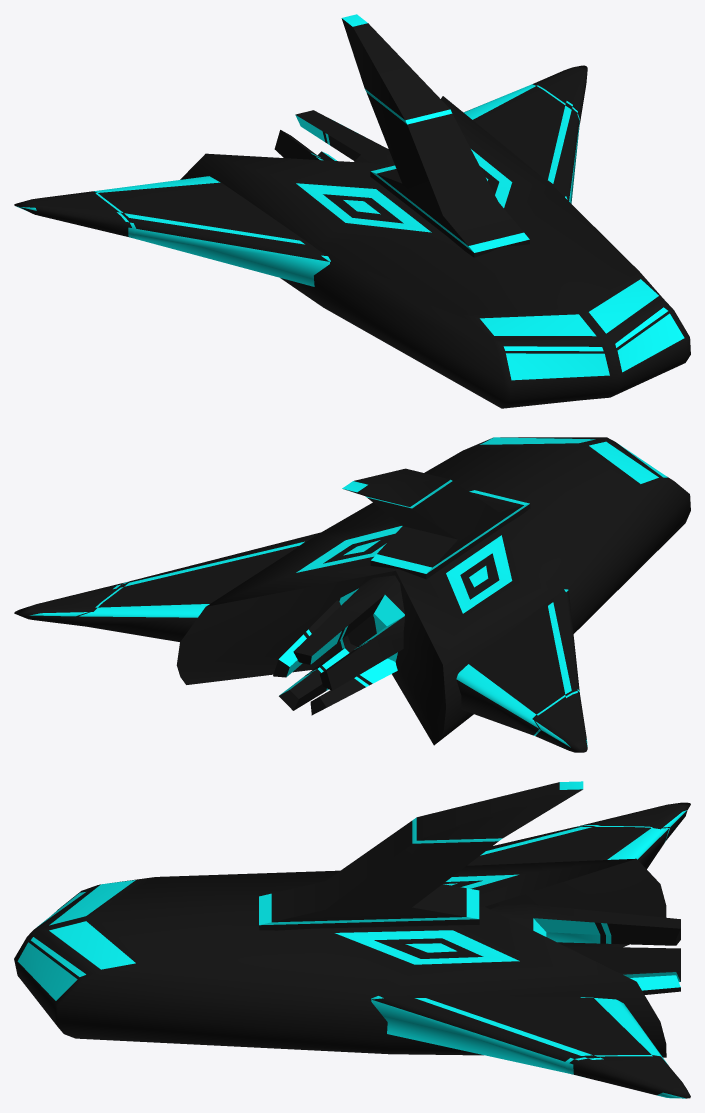
Rendered from Ship_3.fbx.
3 views of the same model, one above another, from view 1: azimuth 30°, elevation 25°; view 2: azimuth 150°, elevation 25°; view 3: azimuth 270°, elevation 25° (orthographic). The views are drawn at different scales.
Visible parts, largest first — view 1: ShipPart_Body_3; view 2: ShipPart_Body_3; view 3: ShipPart_Body_3.
Boxes of the visible parts, x1,y1,x2,y2 form: ShipPart_Body_3: (14, 14, 690, 408); ShipPart_Body_3: (14, 437, 690, 752); ShipPart_Body_3: (14, 781, 690, 1098).
Bounding box in the file's own units: 1.57 × 0.5266 × 1.51.
